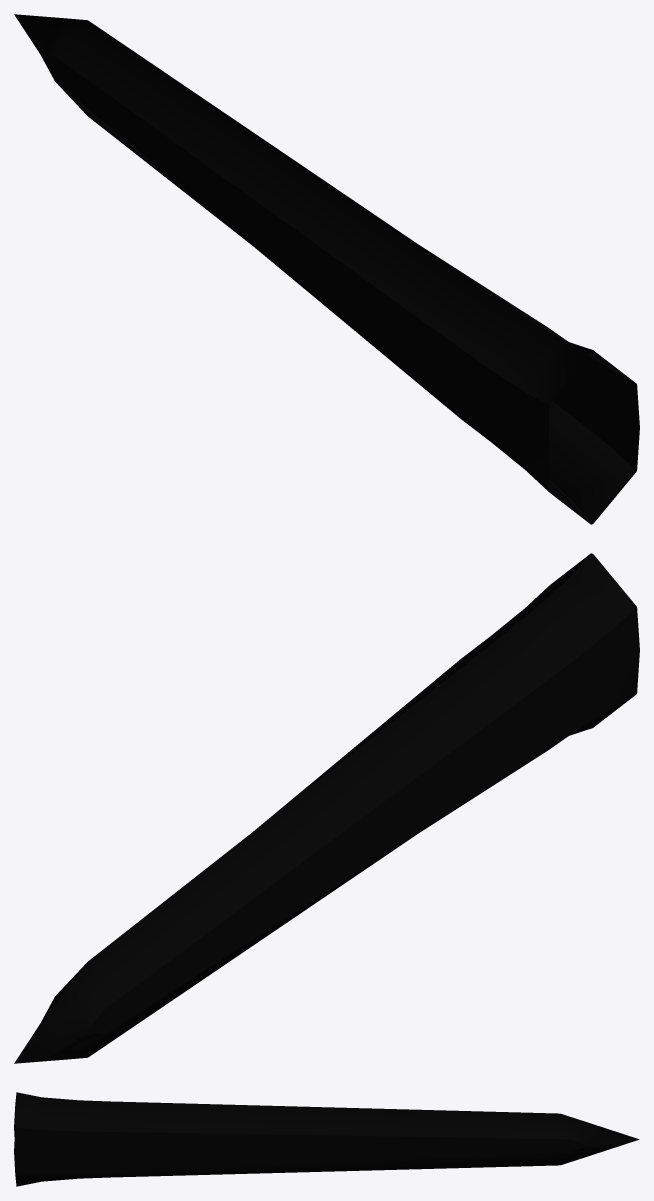
Rendered from herrscher_aura_model.obj.
3 renders of one model, top to bottom at view 1: azimuth 30°, elevation 25°; view 2: azimuth 150°, elevation 25°; view 3: azimuth 270°, elevation 25°, orthographic. The views are drawn at different scales.
Visible parts, largest first — view 1: Cube_Cube.001; view 2: Cube_Cube.001; view 3: Cube_Cube.001.
Part boxes in pixels (x1,y1,x2,y2): Cube_Cube.001: (14, 14, 639, 524); Cube_Cube.001: (14, 553, 639, 1063); Cube_Cube.001: (14, 1092, 639, 1186).
Bounding box in the file's own units: 0.1461 × 0.2669 × 1.61.
